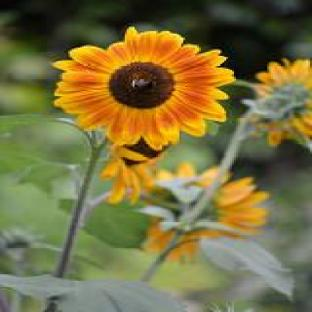sunflower: (53, 27, 236, 156)
